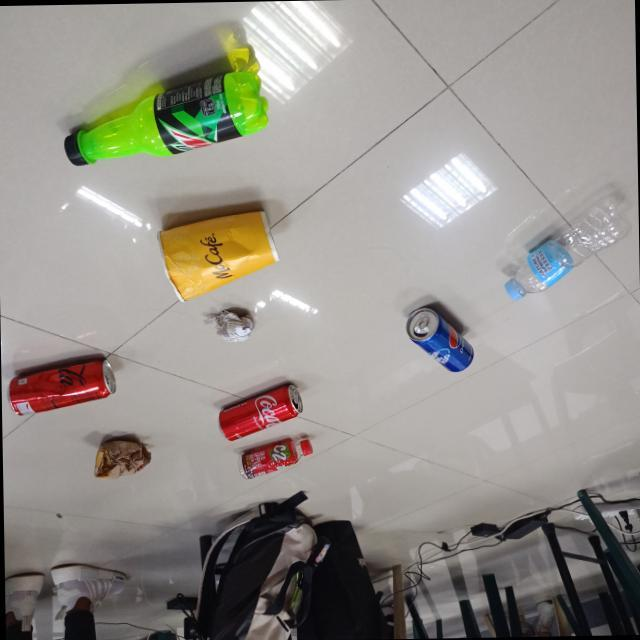recyclable waste: (56, 64, 274, 170), (497, 189, 640, 304), (149, 204, 284, 307), (1, 351, 122, 420), (208, 378, 308, 446), (401, 301, 477, 378), (230, 434, 316, 483), (86, 434, 156, 482), (197, 308, 258, 344)
